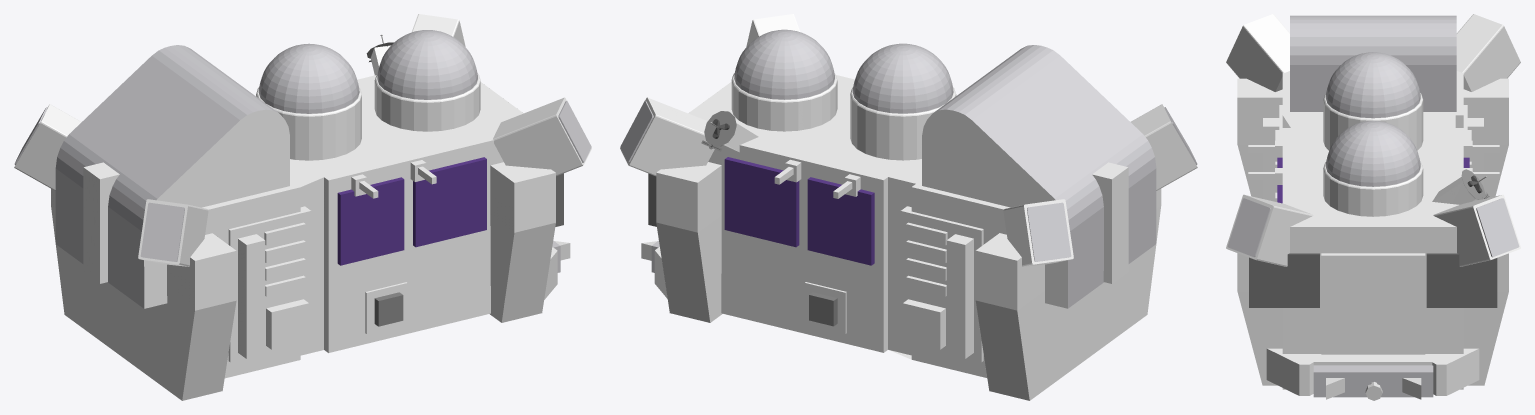
Rendered from mainBody.fbx.
The picture shows the model from 3 angles, left to right: view 1: azimuth 30°, elevation 25°; view 2: azimuth 150°, elevation 25°; view 3: azimuth 270°, elevation 25°; orthographic projection. The views are drawn at different scales.
Parts seen in each view (by area): view 1: <LWODefault>; view 2: <LWODefault>; view 3: <LWODefault>.
Part boxes in pixels (<box>): <LWODefault>: <box>14,14,591,400</box>; <LWODefault>: <box>620,14,1197,400</box>; <LWODefault>: <box>1226,14,1520,400</box>.
Size of the model in its own units: 113 by 60.51 by 64.92.
